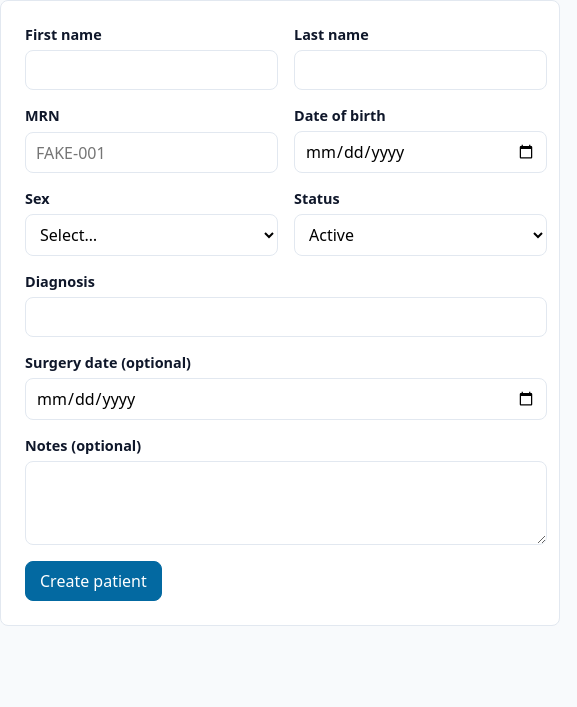
Test: PatientForm › shows form-level errors as an alert
Click the button "Create patient" at (93, 581), box top-left (25, 561), bottom-right (162, 601)
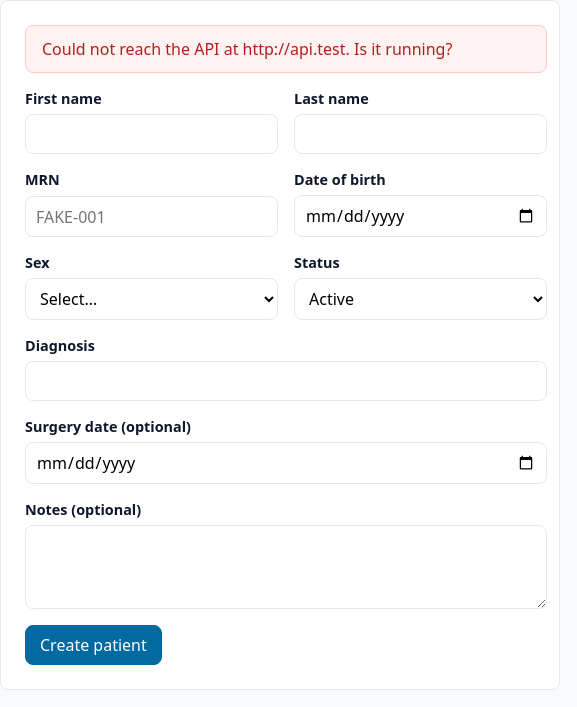
Expected: the message shows "Could not reach the API", top-left (42, 38), bottom-right (452, 60)
